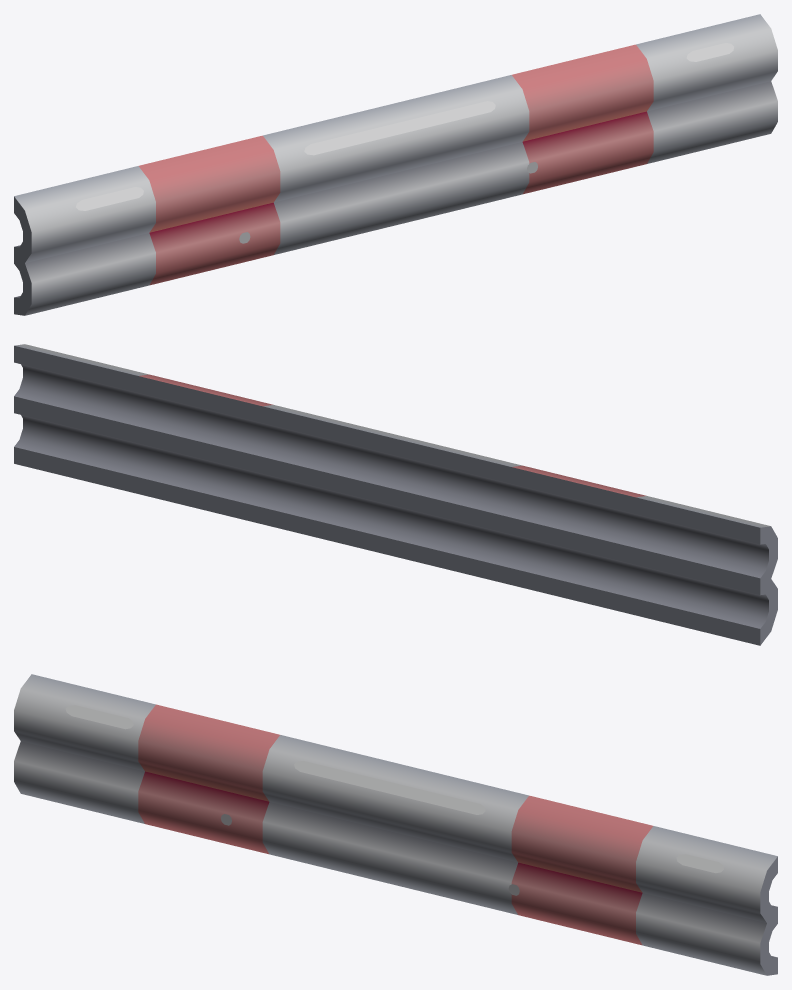
File: LargePanelRed.glb
3 views of the same model, one above another, from view 1: azimuth 30°, elevation 25°; view 2: azimuth 150°, elevation 25°; view 3: azimuth 330°, elevation 25° (orthographic).
Parts seen in each view (by area): view 1: LargePanelRed; view 2: LargePanelRed; view 3: LargePanelRed.
Part boxes in pixels (x1,y1,x2,y2): LargePanelRed: (14, 14, 777, 315); LargePanelRed: (14, 344, 777, 645); LargePanelRed: (14, 674, 777, 975).
Size of the model in its own units: 2.17 by 0.3274 by 0.0908.
